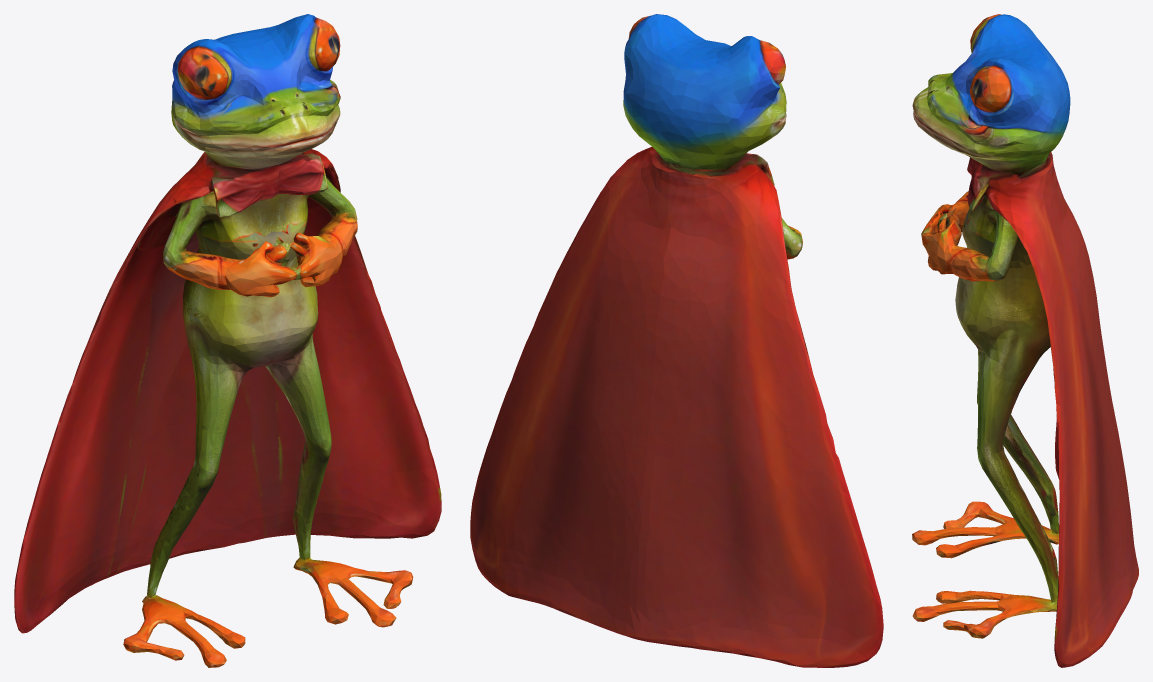
File: Super_Frog_Hero_0502144453_texture.fbx
3 views of the same model, side by side, from view 1: azimuth 30°, elevation 25°; view 2: azimuth 150°, elevation 25°; view 3: azimuth 270°, elevation 25° (orthographic). The views are drawn at different scales.
Visible parts, largest first — view 1: temp; view 2: temp; view 3: temp.
Part boxes in pixels (box(x1,y1,x2,y2)): temp: box(14, 14, 441, 667); temp: box(470, 14, 883, 667); temp: box(912, 14, 1138, 667).
Bounding box in the file's own units: 152 × 200 × 75.5.
Materials: 1 (1 with a texture image).
